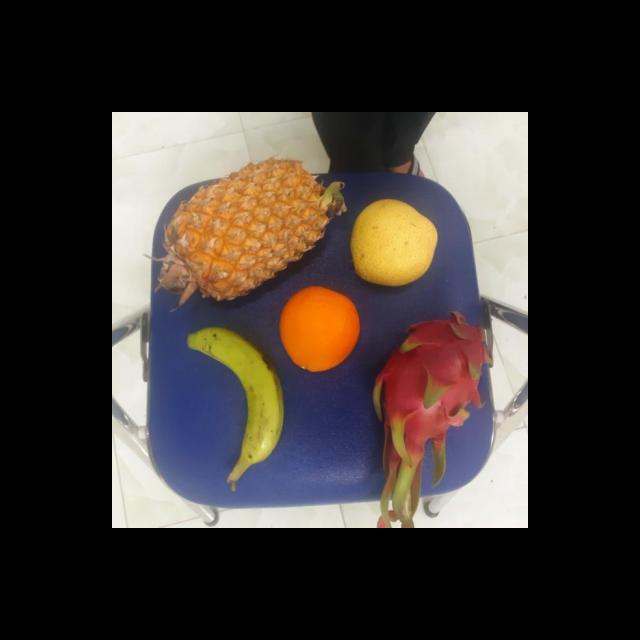banana: (187, 326, 282, 476)
orange: (278, 288, 362, 373)
pear: (344, 198, 441, 287)
pineapple: (150, 156, 335, 301)
pitaya: (365, 310, 491, 485)
